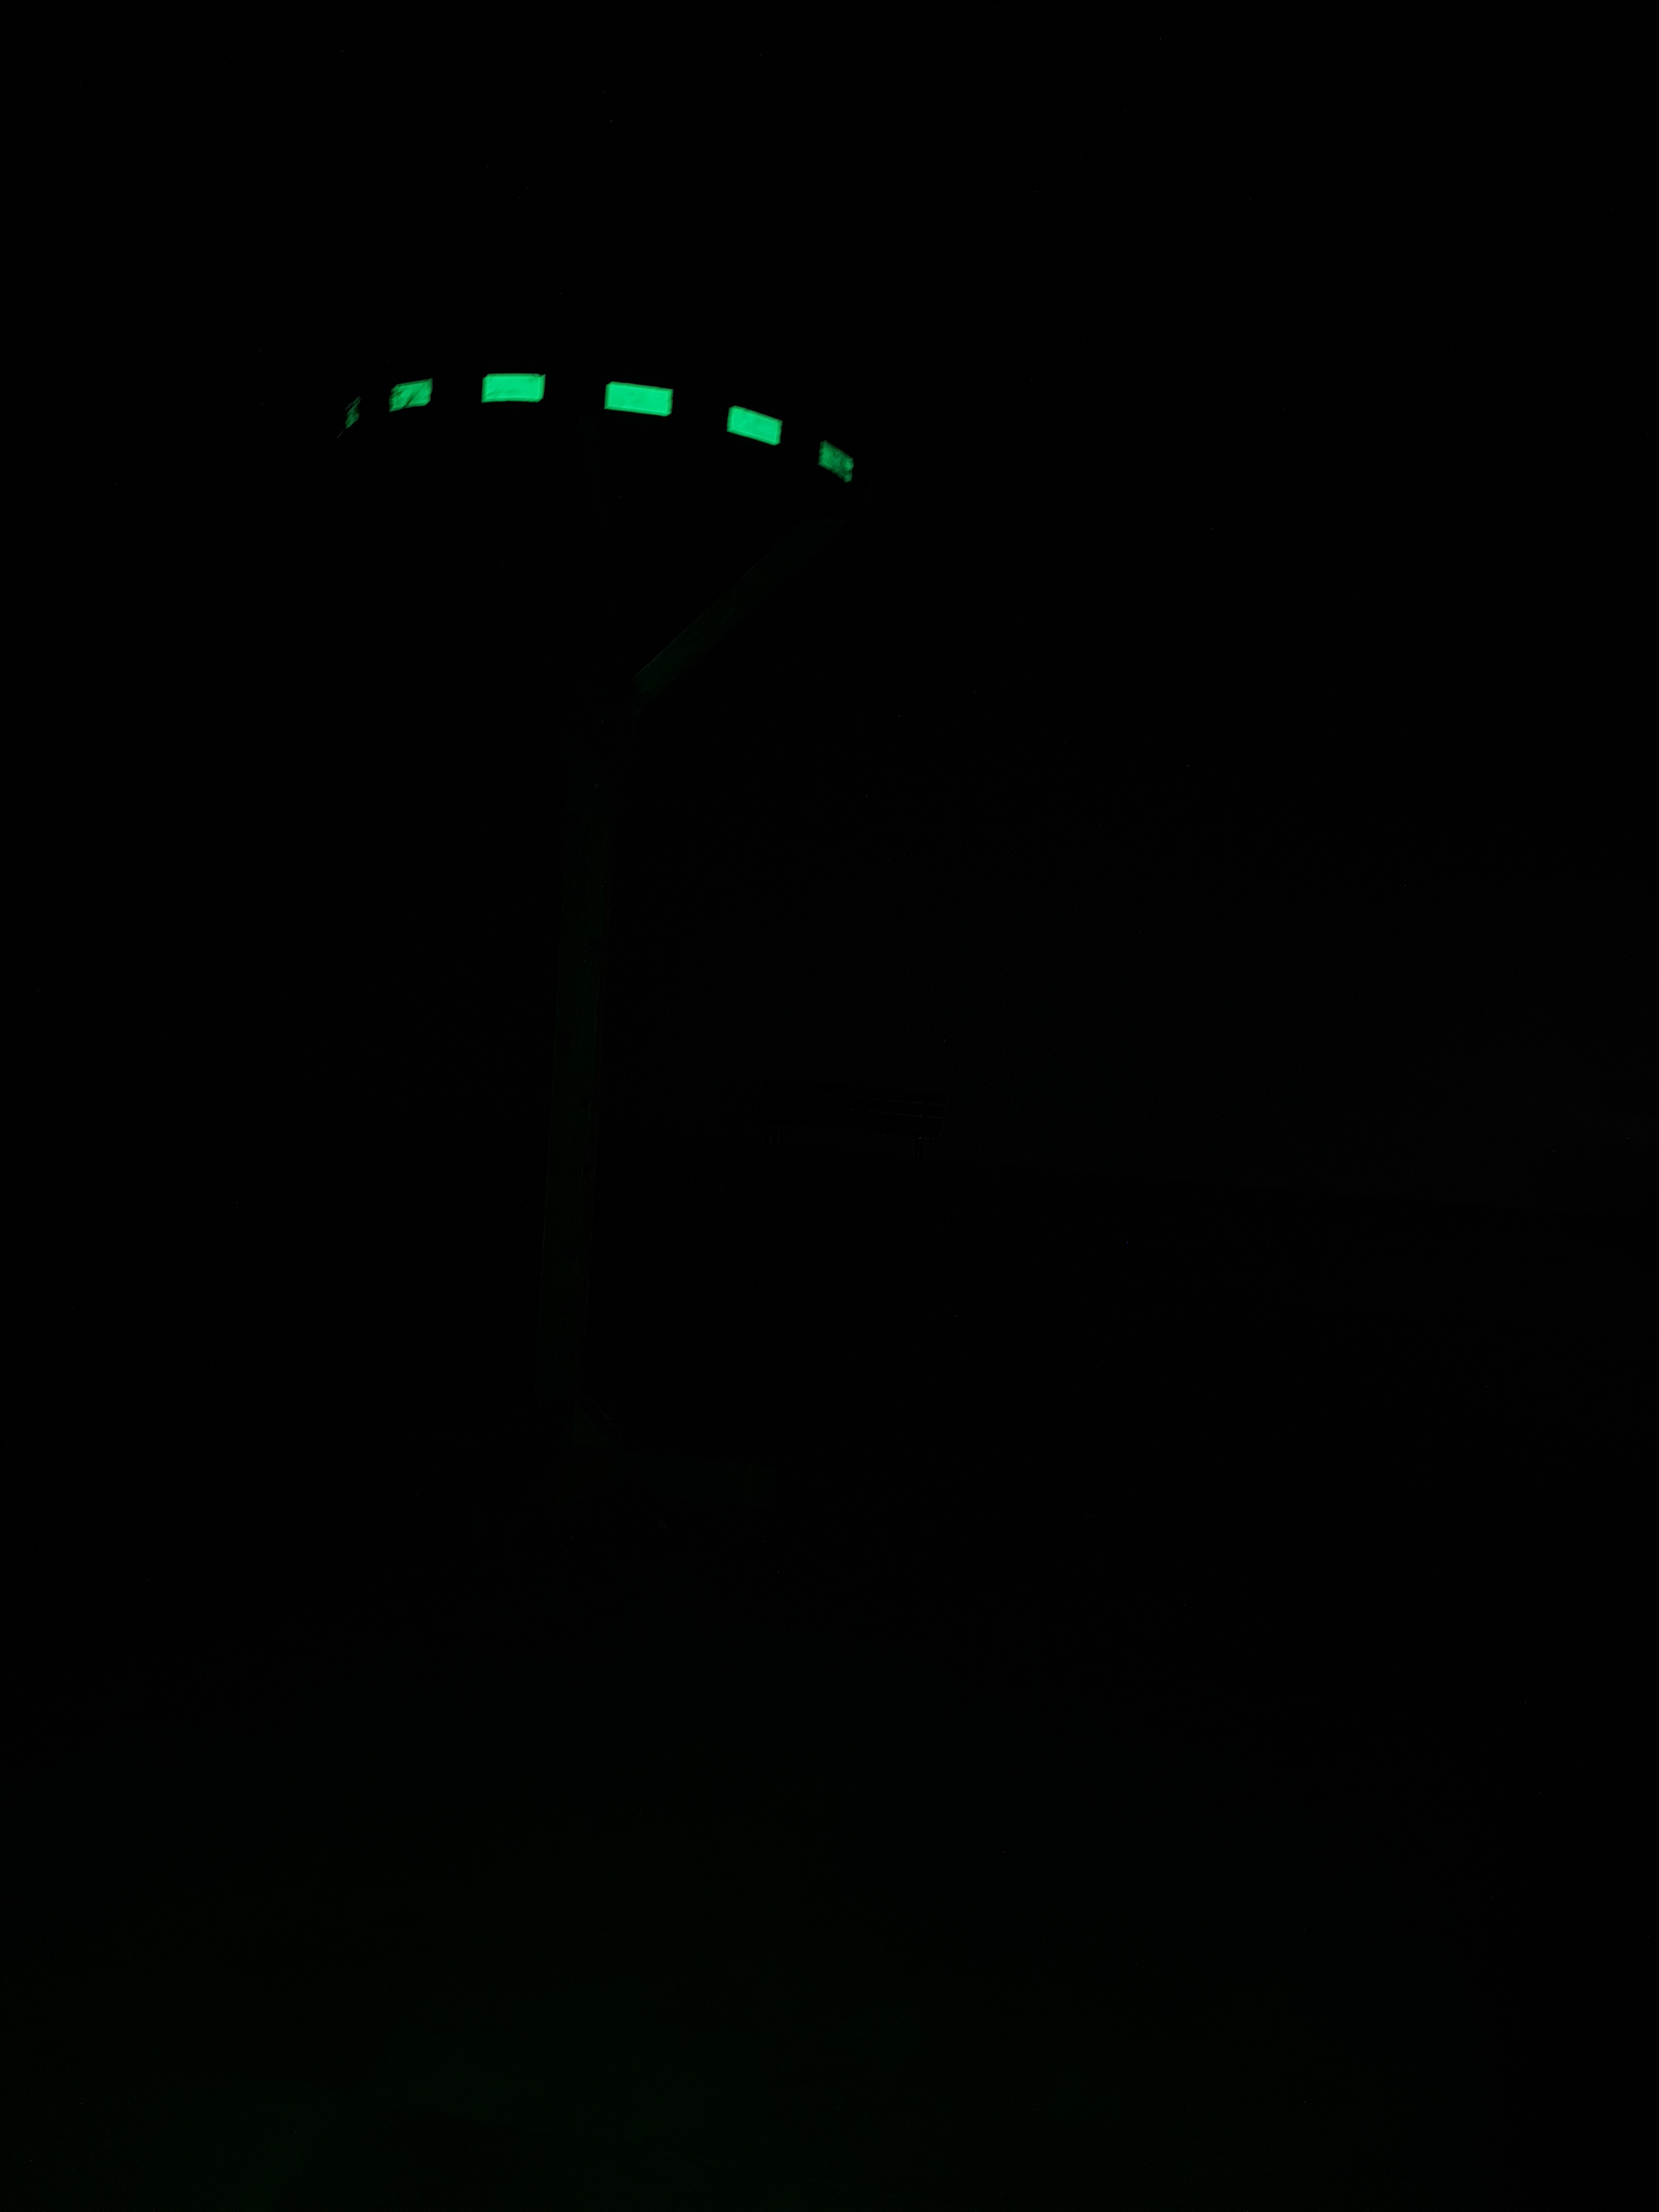hoop: (331, 357, 859, 484)
